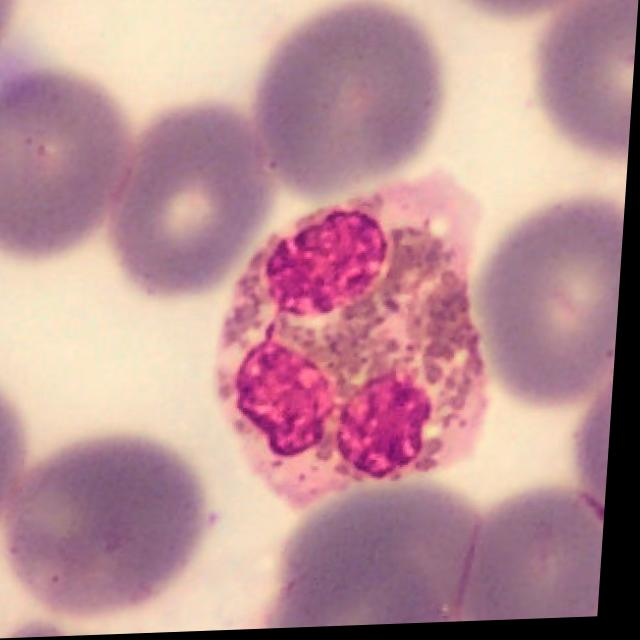Eosinofilo: (218, 175, 496, 516)
